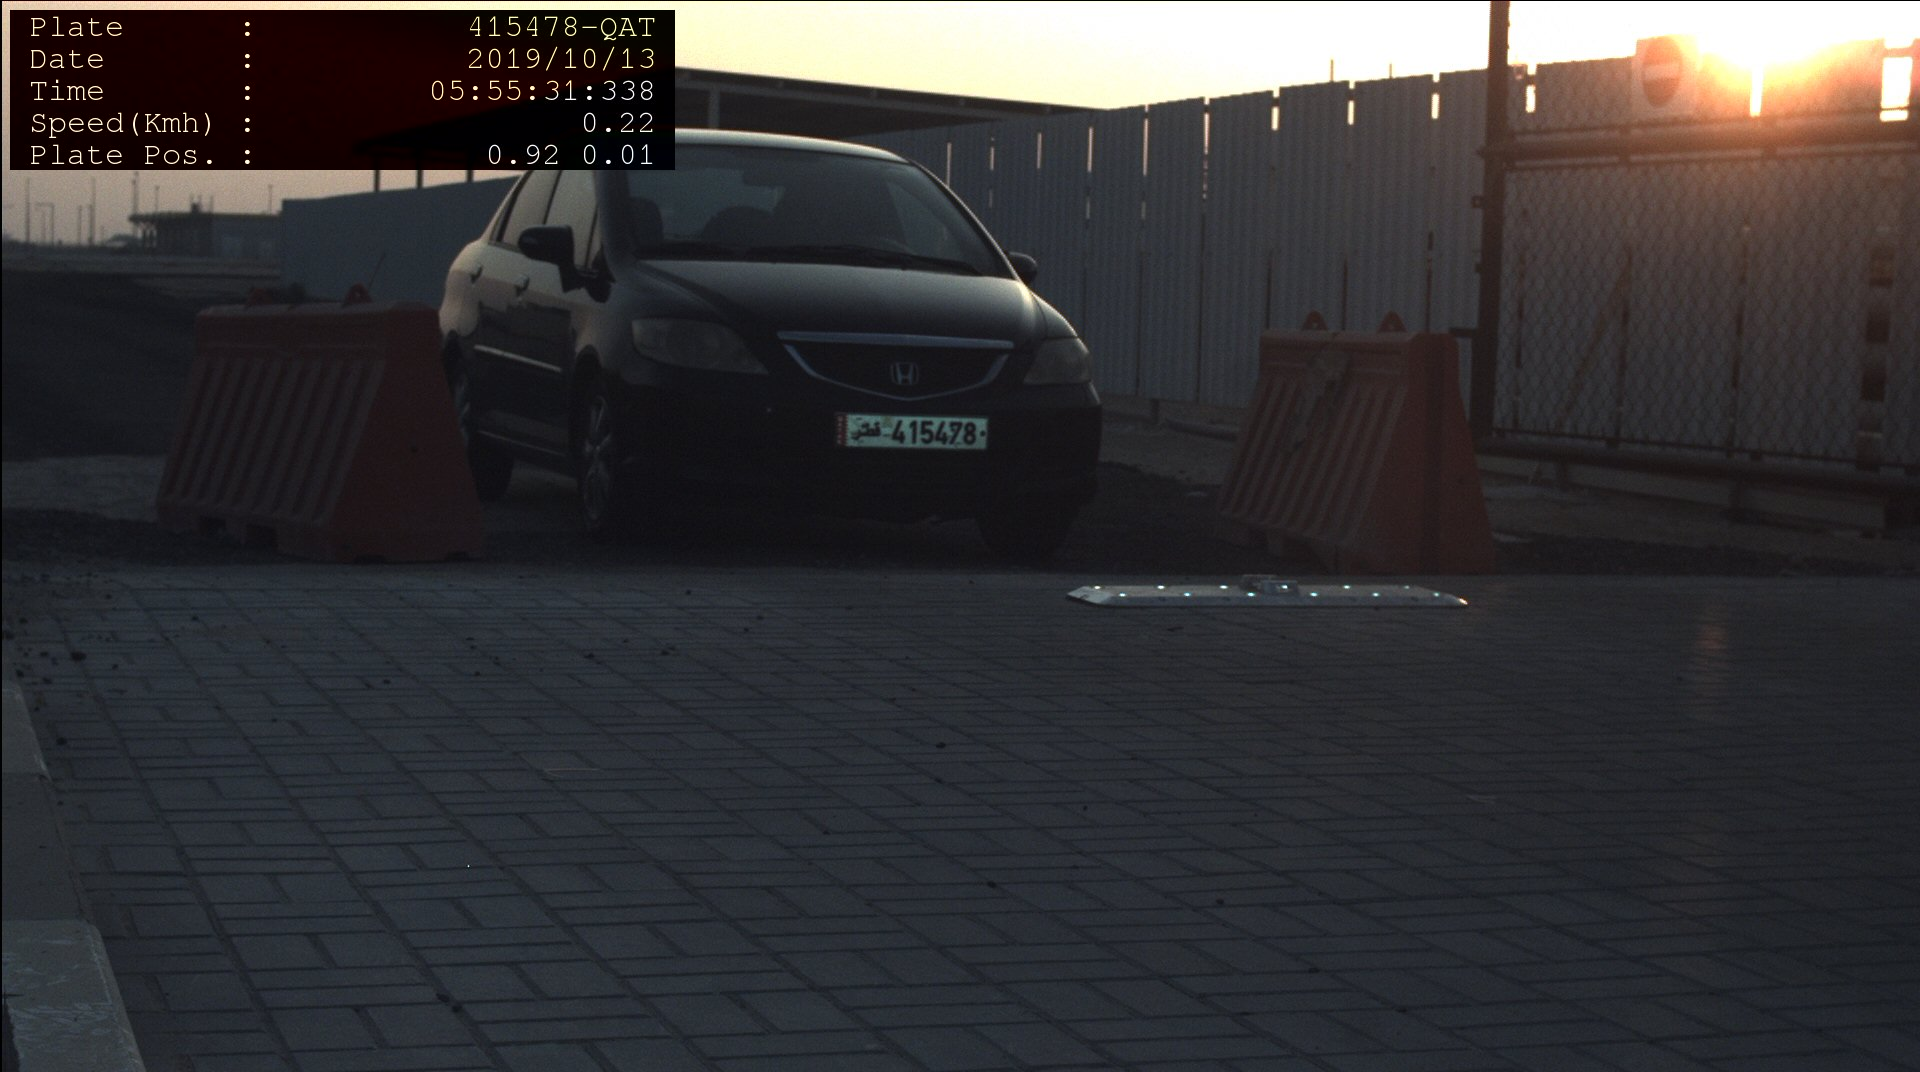License Plate: (836, 412, 991, 450)
